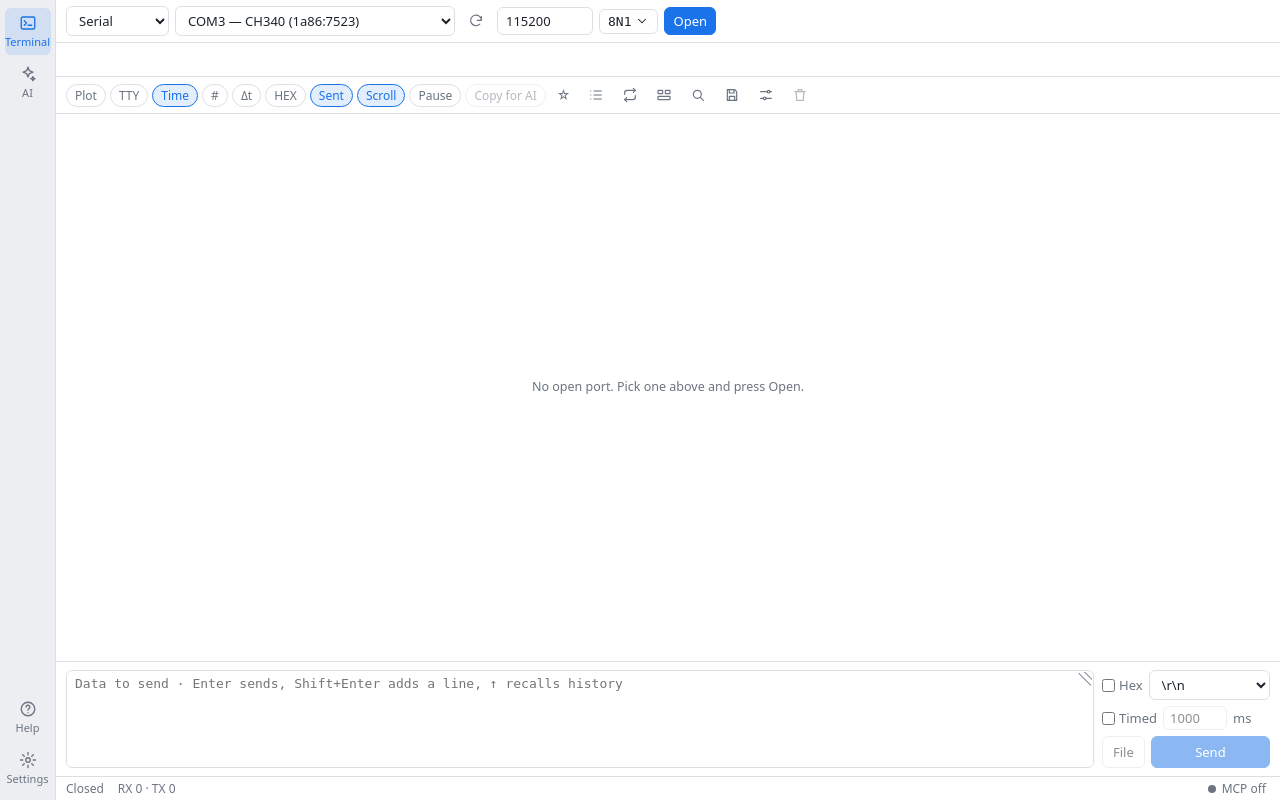
Test case: App › opens the command list in its own window
Click the button named "Commands": (596, 95) [581,82,611,108]
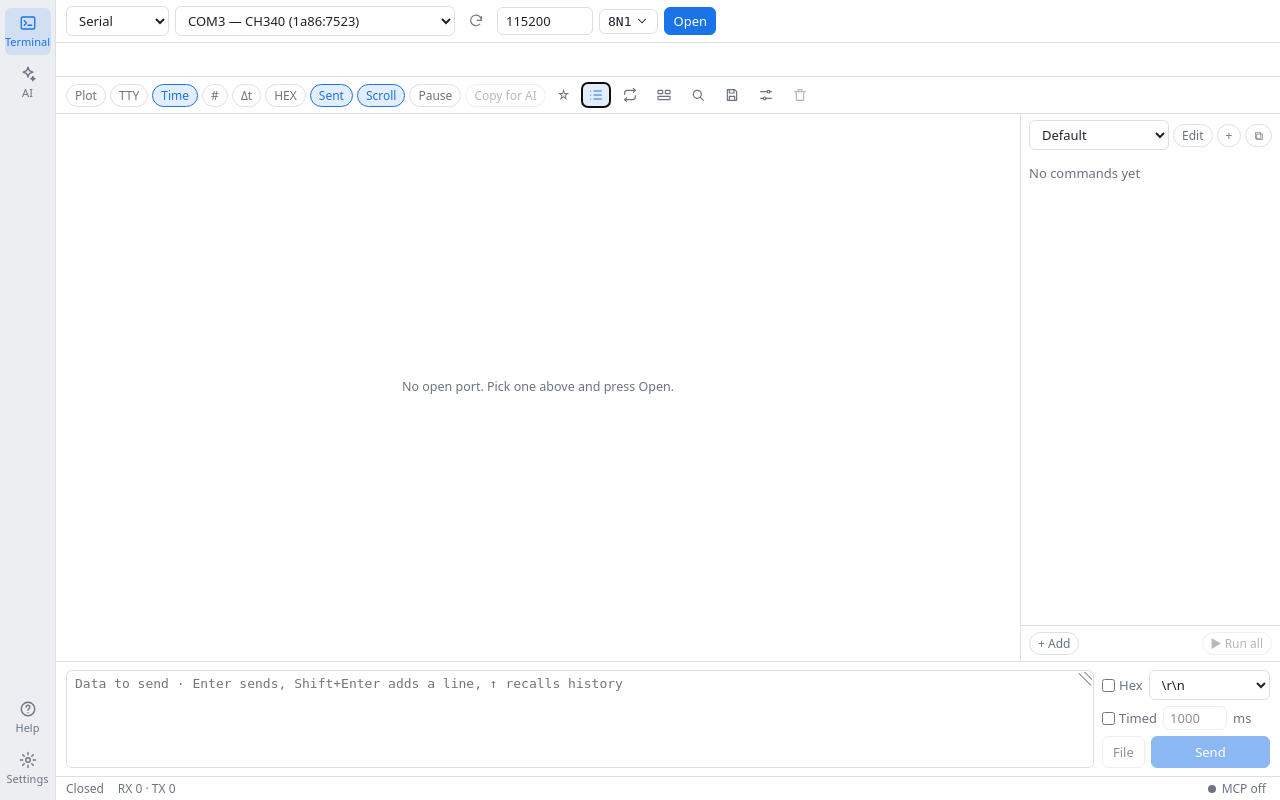
Click the button named "Open the command list in its own window": (1259, 135) [1245,124,1272,146]
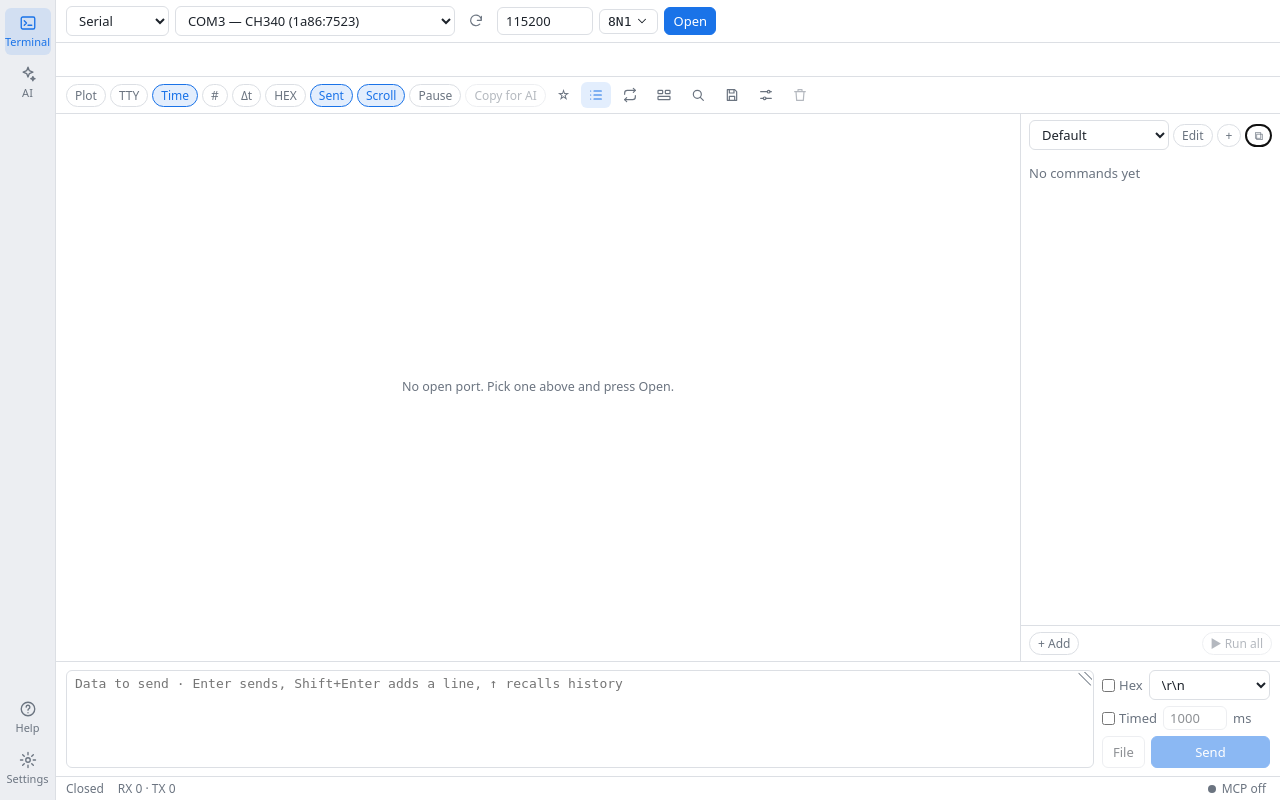
Click the button named "Open the command list in its own window": (1259, 135) [1245,124,1272,146]
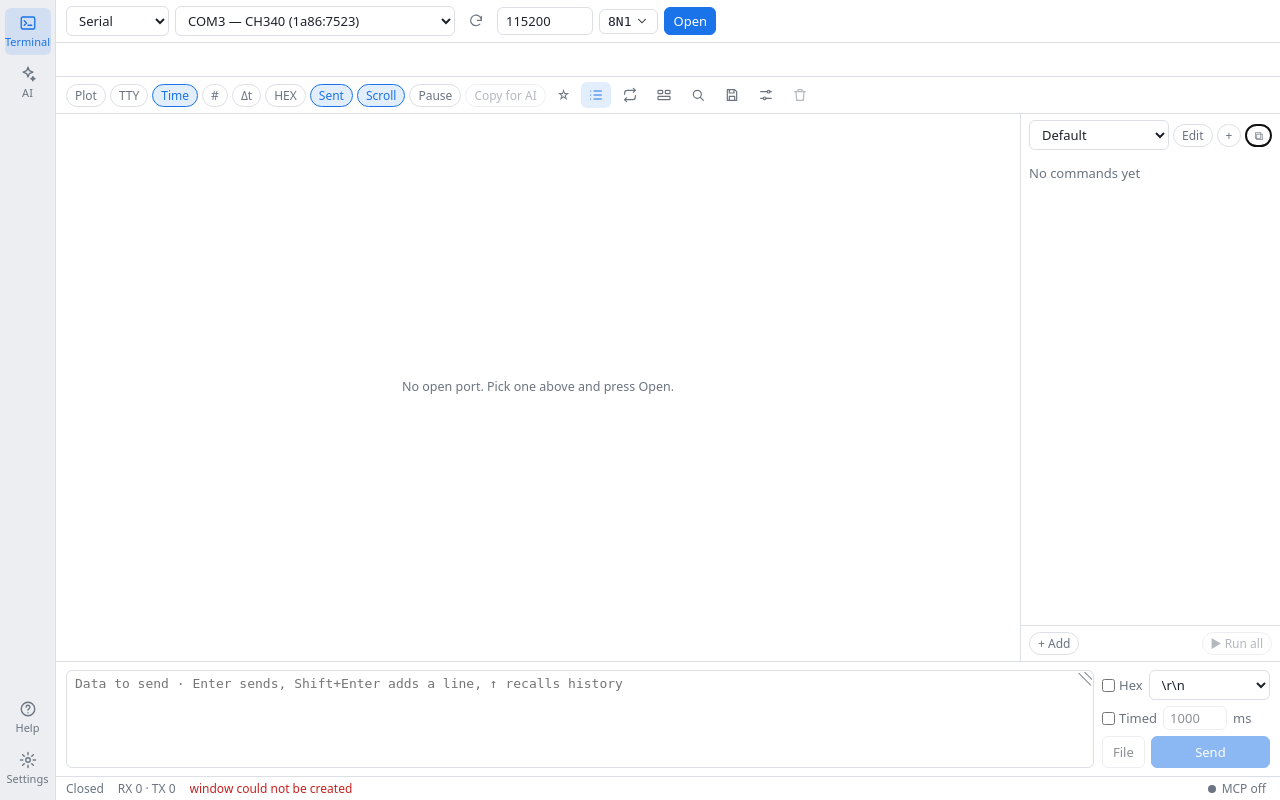
Now the message shows "window could not be created", box [190,780,352,797]
